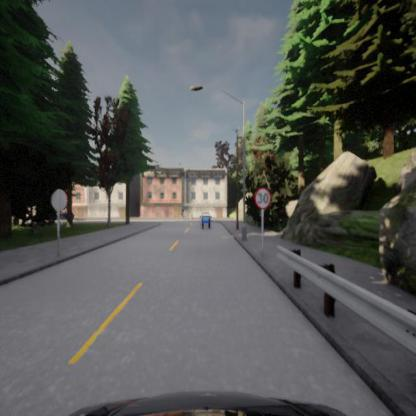traffic_sign_30: (255, 189, 271, 207)
